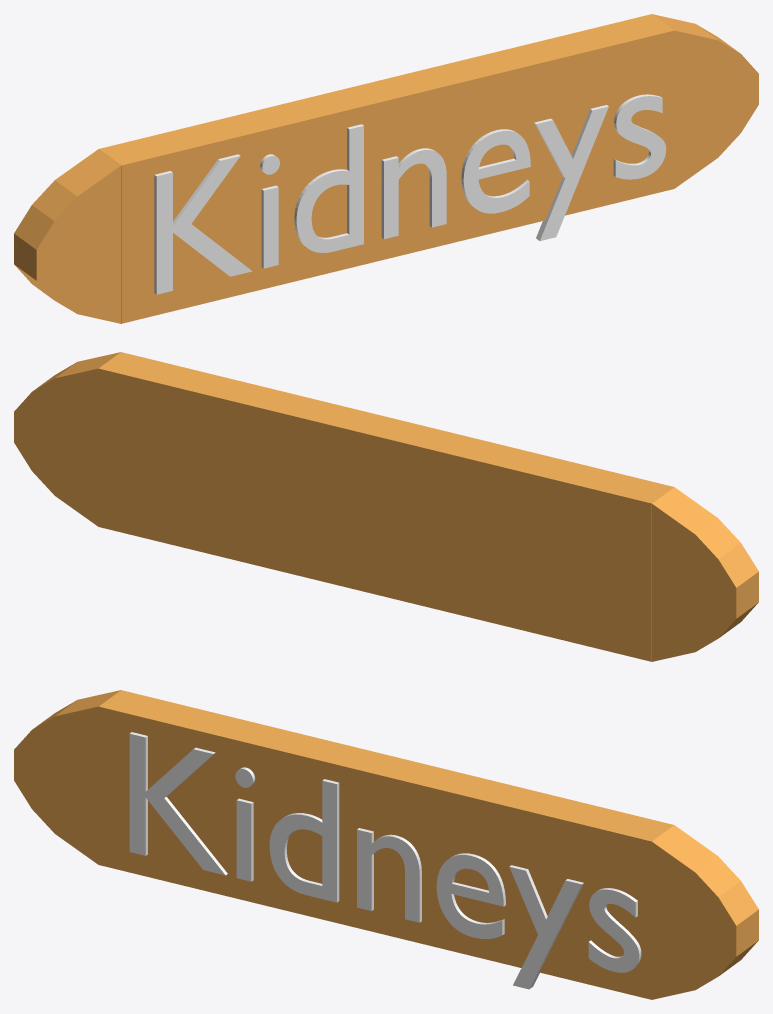
Rendered from txtKidneys.fbx.
The picture shows the model from 3 angles, top to bottom: view 1: azimuth 30°, elevation 25°; view 2: azimuth 150°, elevation 25°; view 3: azimuth 330°, elevation 25°; orthographic projection.
Parts seen in each view (by area): view 1: TagContainer.120, Text.122; view 2: TagContainer.120; view 3: TagContainer.120, Text.122.
Part boxes in pixels (box(x1,y1,x2,y2)): TagContainer.120: box(14, 14, 758, 323); Text.122: box(154, 94, 666, 294); TagContainer.120: box(14, 352, 758, 661); TagContainer.120: box(14, 690, 758, 999); Text.122: box(129, 732, 641, 989).
Bounding box in the file's own units: 197 × 45.81 × 11.73.
